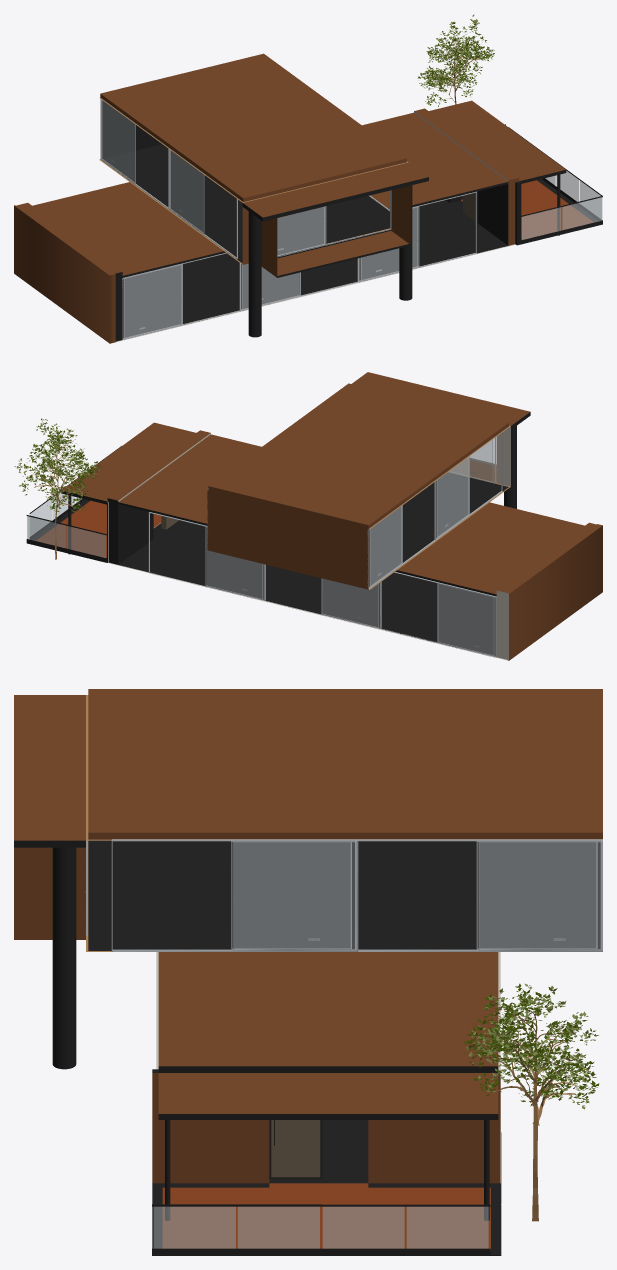
The picture shows the model from 3 angles, top to bottom: view 1: azimuth 30°, elevation 25°; view 2: azimuth 150°, elevation 25°; view 3: azimuth 270°, elevation 25°; orthographic projection. The views are drawn at different scales.
Visible parts, largest first — view 1: building_4, building_1, building_13, building_9, building_12, building_10, building_8, building_28, building_26, building_5, building_6; view 2: building_4, building_1, building_13, building_9, building_12, building_10, building_28, building_5, building_26, building_2, building_25; view 3: building_4, building_9, building_13, building_1, building_10, building_12, building_28, building_8, building_26, building_24, building_25.
Part boxes in pixels (<box>): building_4: <box>14,53,565,343</box>; building_1: <box>103,101,602,341</box>; building_13: <box>102,101,602,337</box>; building_9: <box>104,144,389,263</box>; building_12: <box>100,99,476,339</box>; building_10: <box>461,180,593,239</box>; building_8: <box>261,185,411,277</box>; building_28: <box>417,19,494,106</box>; building_26: <box>420,14,494,104</box>; building_5: <box>116,111,515,342</box>; building_6: <box>99,97,408,202</box>; building_4: <box>62,372,602,660</box>; building_1: <box>26,412,530,655</box>; building_13: <box>27,438,495,655</box>; building_9: <box>369,472,508,586</box>; building_12: <box>148,432,502,657</box>; building_10: <box>36,500,161,557</box>; building_28: <box>19,418,100,512</box>; building_5: <box>106,426,510,660</box>; building_26: <box>14,419,99,511</box>; building_2: <box>27,429,510,538</box>; building_25: <box>29,445,85,559</box>; building_4: <box>14,689,602,1183</box>; building_9: <box>88,840,600,950</box>; building_13: <box>153,842,600,1248</box>; building_1: <box>14,840,501,1255</box>; building_10: <box>162,1183,490,1249</box>; building_12: <box>85,839,602,951</box>; building_28: <box>463,983,599,1106</box>; building_8: <box>14,847,85,939</box>; building_26: <box>466,983,598,1109</box>; building_24: <box>271,1120,320,1177</box>; building_25: <box>489,1009,576,1221</box>.
Bounding box in the file's own units: 41.54 × 11.54 × 23.96.
